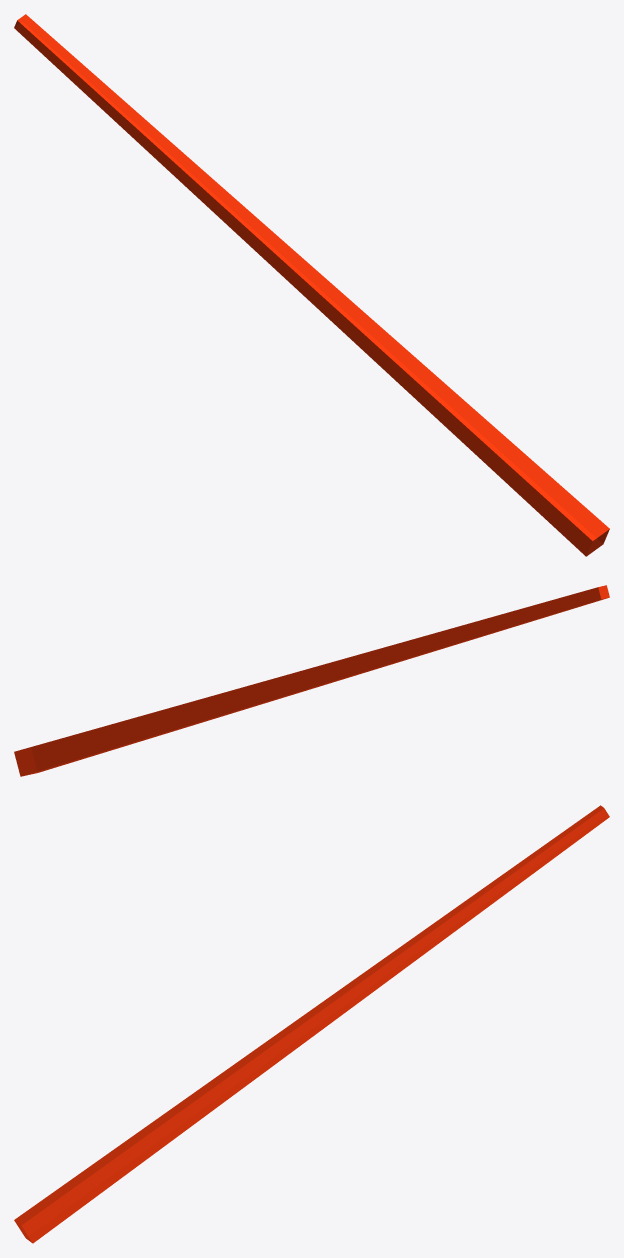
Rendered from Event_421556567_EBrechit_14.fbx.
3 renders of one model, top to bottom at view 1: azimuth 30°, elevation 25°; view 2: azimuth 210°, elevation 25°; view 3: azimuth 270°, elevation 25°, orthographic. The views are drawn at different scales.
Visible parts, largest first — view 1: Model; view 2: Model; view 3: Model.
Part boxes in pixels (box(x1,y1,x2,y2)): Model: box(14, 14, 609, 556); Model: box(14, 585, 609, 776); Model: box(14, 805, 609, 1243).
Bounding box in the file's own units: 1.35 × 1.75 × 2.89.
